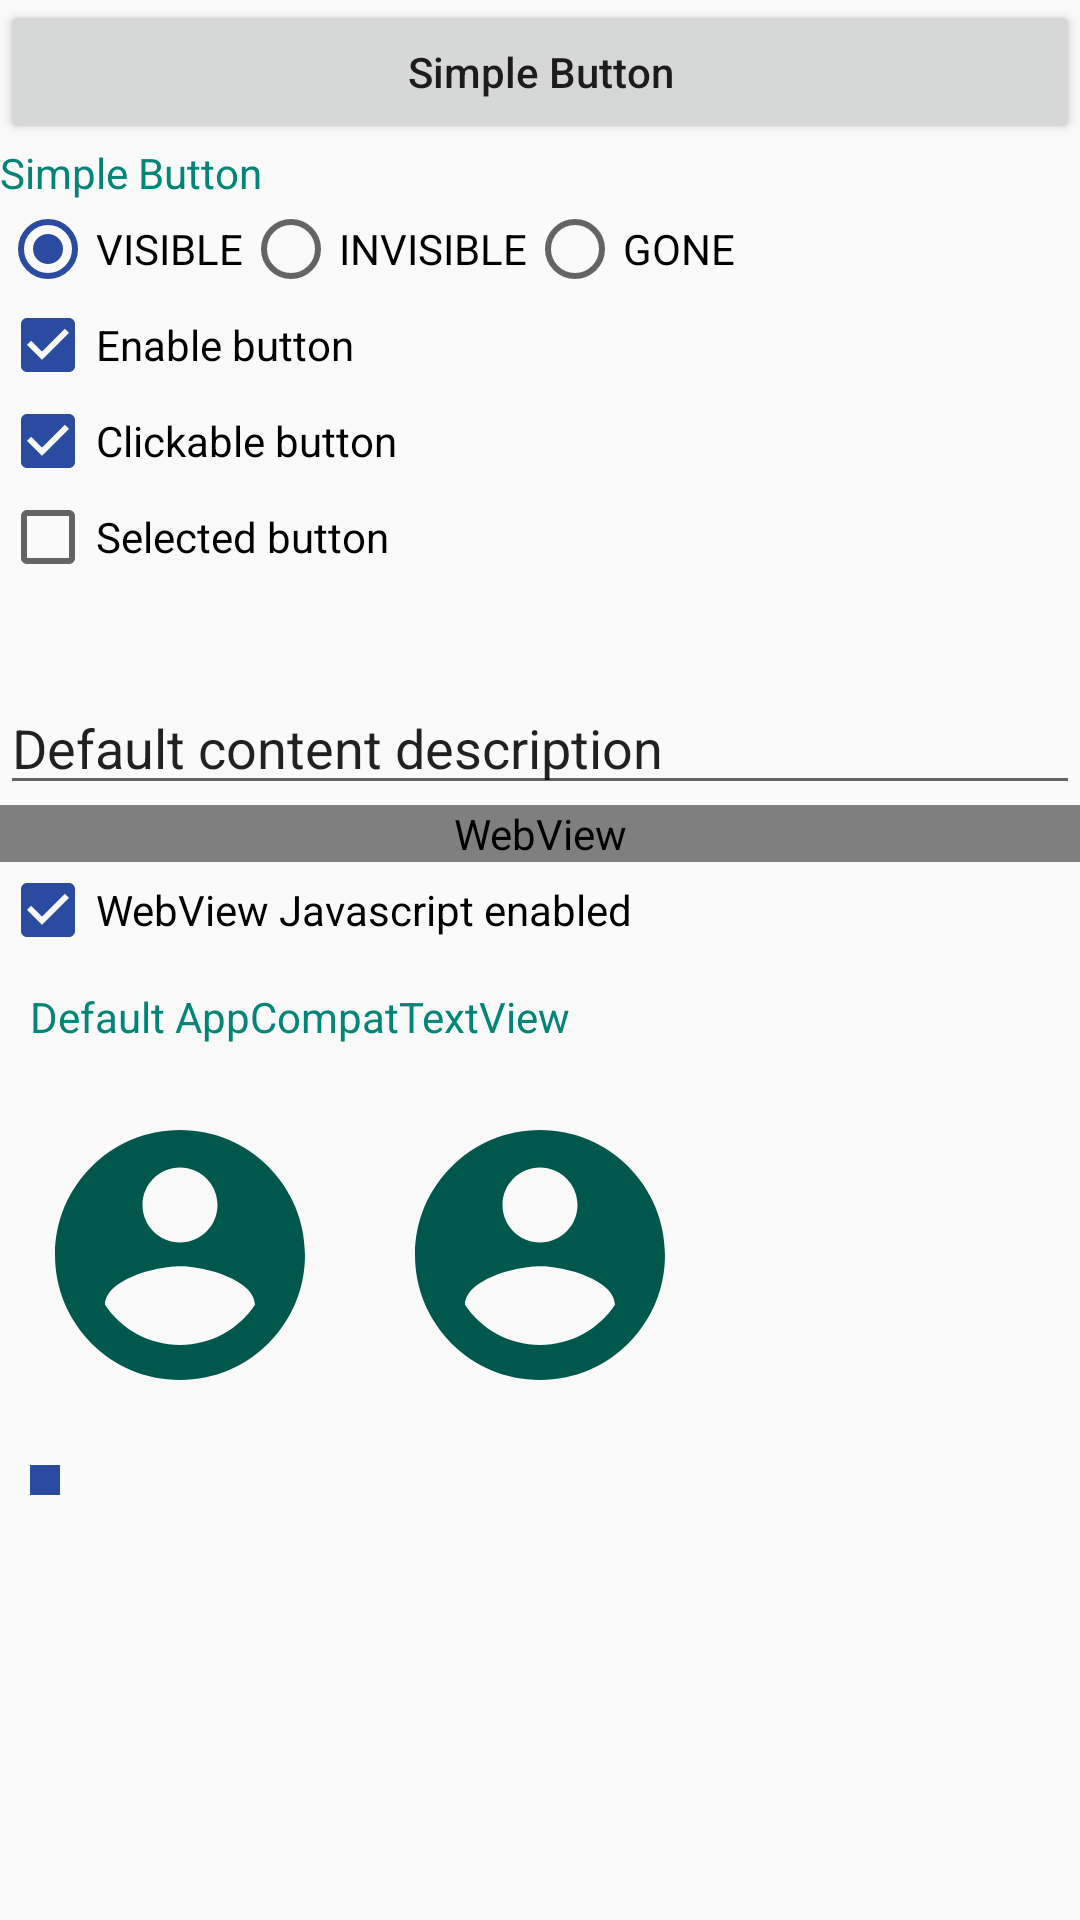

Where to tap for icons on this 1080x1920 app screen, as (x,y):
account: (180,1255), (540,1255)
